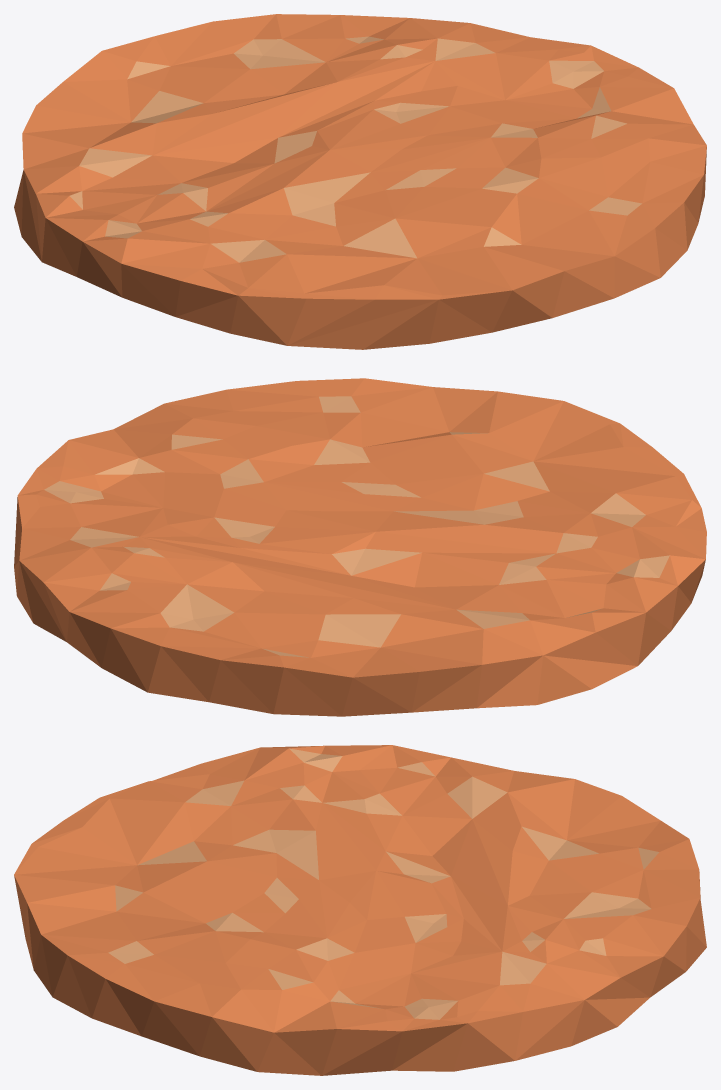
The model's file is pepperoni.fbx.
The picture shows the model from 3 angles, top to bottom: view 1: azimuth 30°, elevation 25°; view 2: azimuth 150°, elevation 25°; view 3: azimuth 270°, elevation 25°; orthographic projection. The views are drawn at different scales.
Parts seen in each view (by area): view 1: Salami.001; view 2: Salami.001; view 3: Salami.001.
Part boxes in pixels (x1,y1,x2,y2): Salami.001: (14,14,706,349); Salami.001: (14,378,706,716); Salami.001: (14,745,706,1075).
Size of the model in its own units: 93.32 by 9.28 by 95.01.
